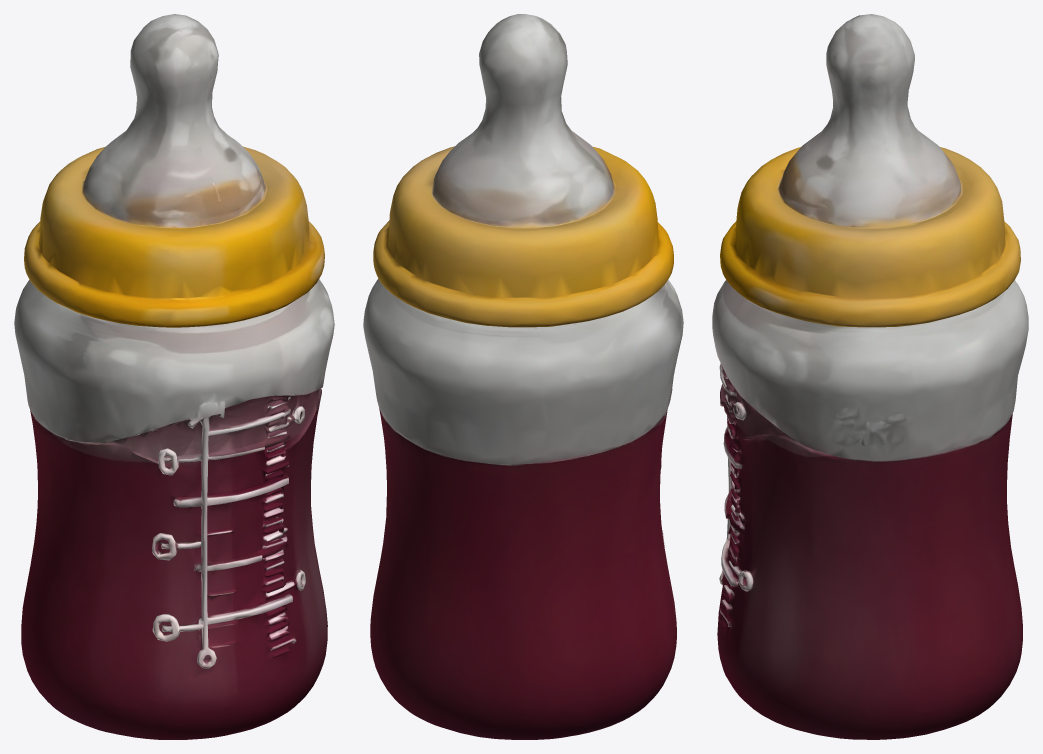
The model's file is tripo_convert_9b30f4f7-ae33-48d6-89b4-0fd96bfbbcab.fbx.
3 views of the same model, side by side, from view 1: azimuth 30°, elevation 25°; view 2: azimuth 150°, elevation 25°; view 3: azimuth 270°, elevation 25° (orthographic).
Visible parts, largest first — view 1: tripo_node_9b30f4f7; view 2: tripo_node_9b30f4f7; view 3: tripo_node_9b30f4f7.
Boxes of the visible parts, bbox=[...] form: tripo_node_9b30f4f7: bbox=[14, 14, 334, 739]; tripo_node_9b30f4f7: bbox=[363, 14, 683, 739]; tripo_node_9b30f4f7: bbox=[712, 14, 1028, 739].
Size of the model in its own units: 0.431 by 1 by 0.4271.
Materials: 1 (1 with a texture image).
